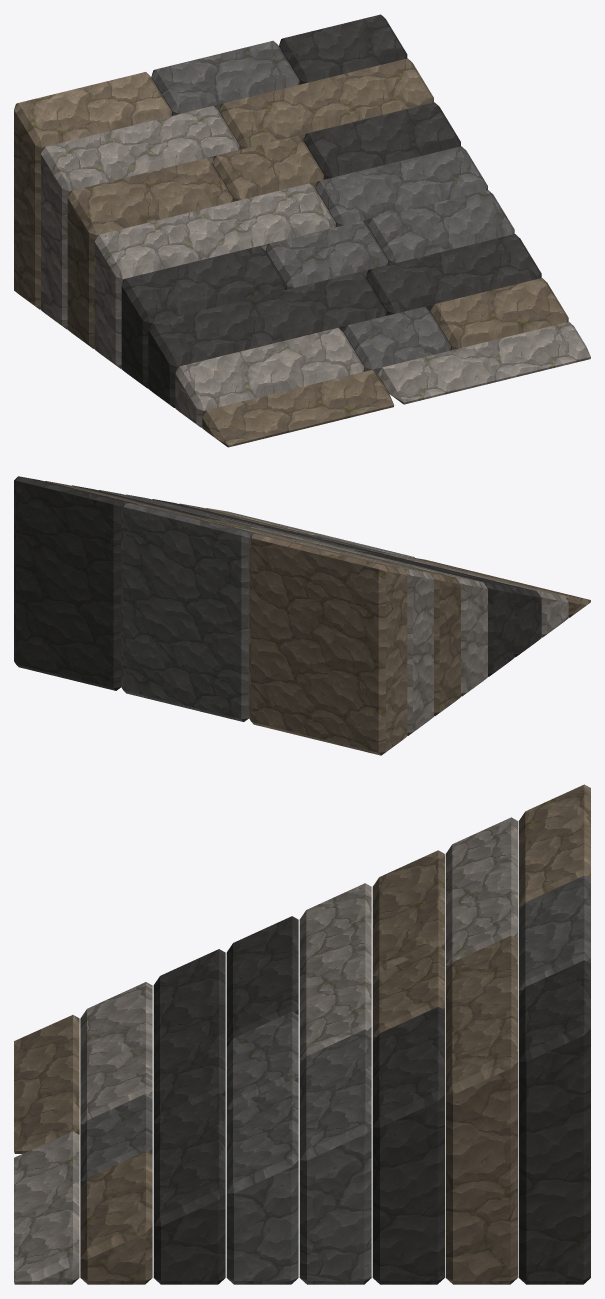
The model's file is ramp__cut_stone.glb.
The picture shows the model from 3 angles, top to bottom: view 1: azimuth 30°, elevation 25°; view 2: azimuth 150°, elevation 25°; view 3: azimuth 270°, elevation 25°; orthographic projection. The views are drawn at different scales.
Visible parts, largest first — view 1: model; view 2: model; view 3: model.
Boxes of the visible parts, bbox=[...] form: model: bbox=[14, 14, 590, 447]; model: bbox=[14, 476, 590, 755]; model: bbox=[14, 784, 590, 1284].
Size of the model in its own units: 1.99 by 0.9748 by 1.96.
5 materials, 5 textured.
